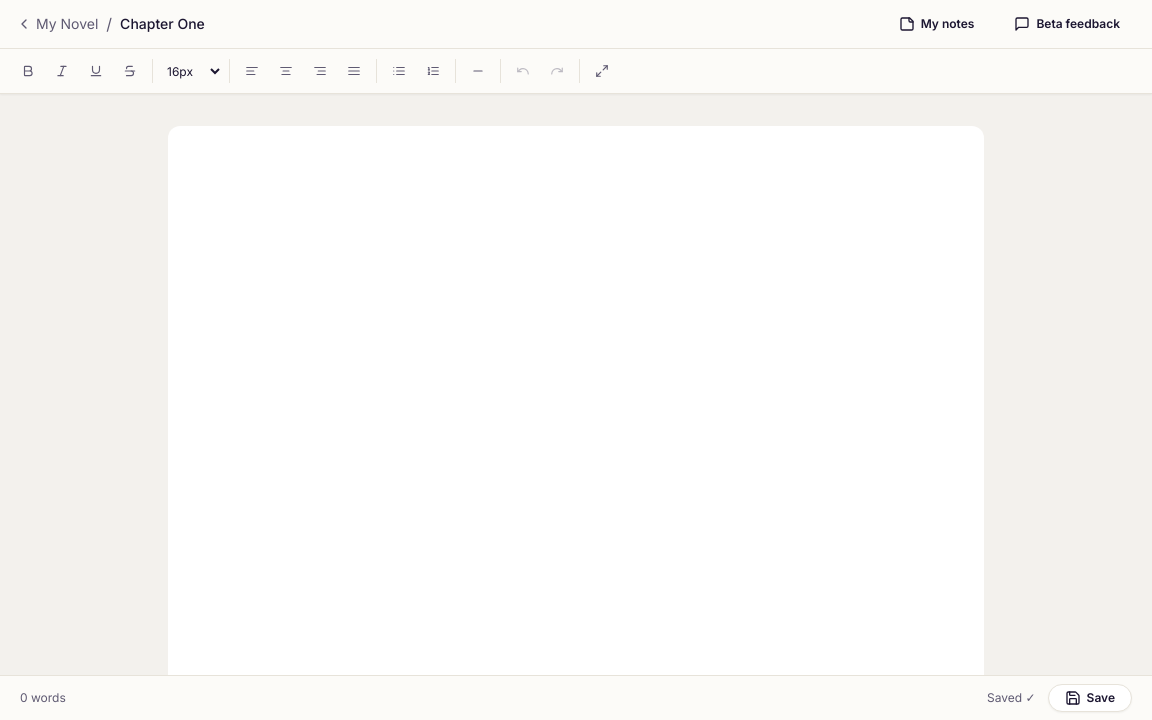
TiptapEditor › toggles focus mode and hides top bar
expect the link "My Novel" is shown: met, box [16,14,98,34]
Press the mouse on the button titled "Focus mode" at (602, 71), box [586,55,618,87]
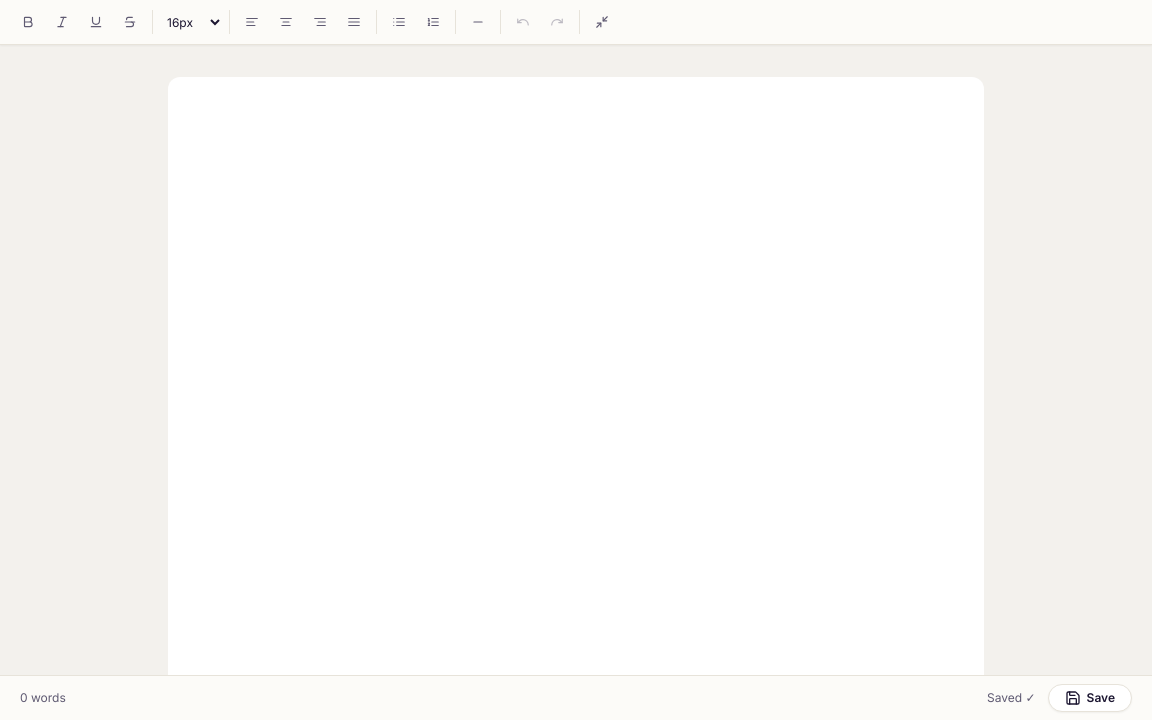
expect the link "My Novel" is gone: met
expect the button titled "Exit focus mode" is shown: met, box [586,6,618,38]
